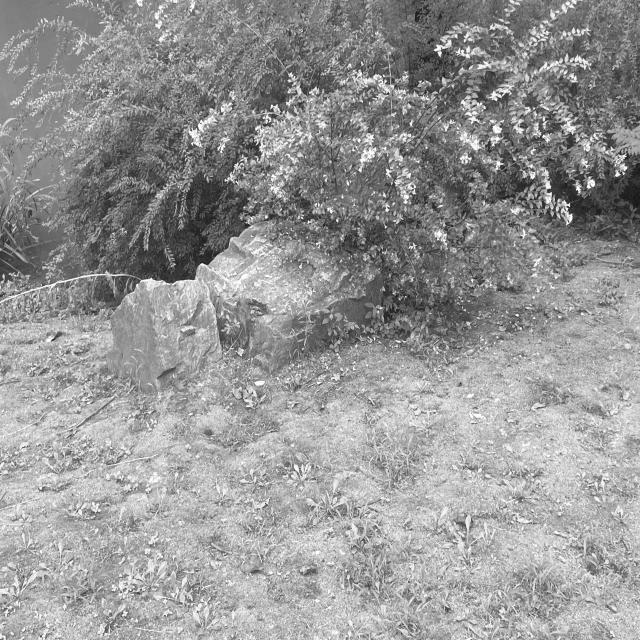Stone: (108, 222, 382, 390)
